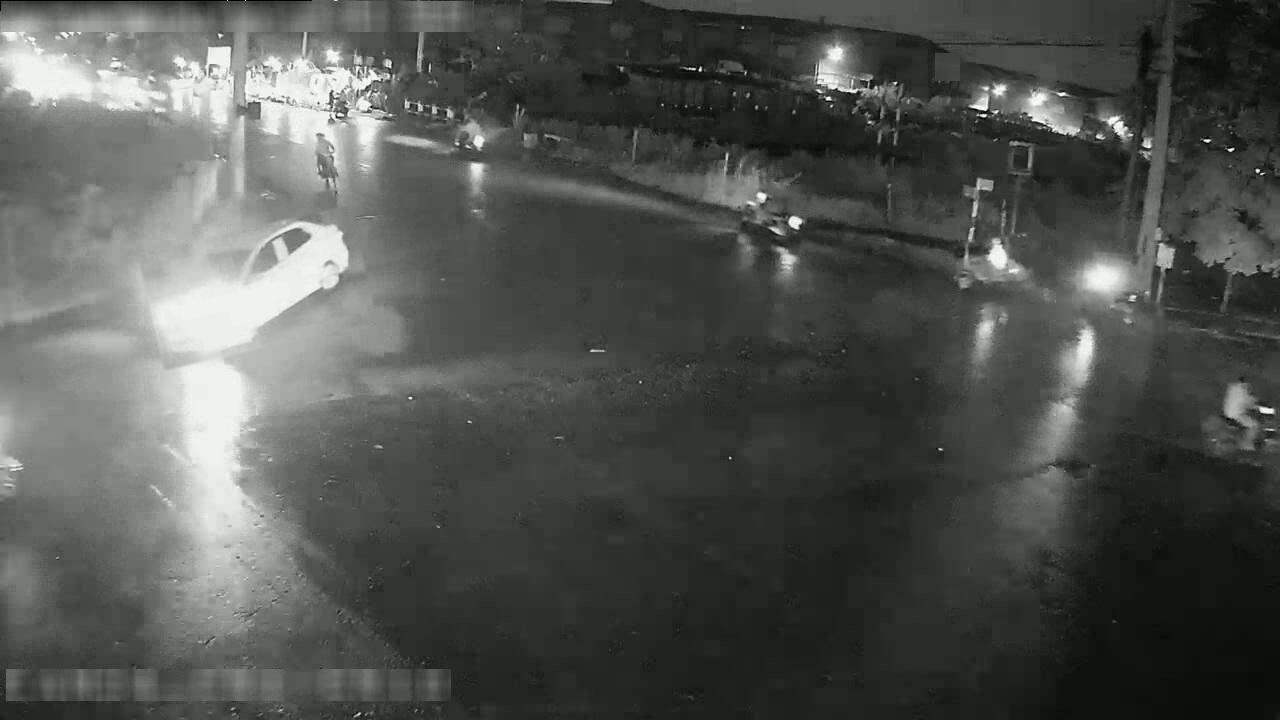Car: (141, 219, 349, 361)
Motorcyclist: (1201, 374, 1279, 465), (1077, 254, 1147, 326), (955, 237, 1031, 294), (738, 189, 805, 250), (452, 115, 493, 161), (313, 131, 340, 193)
